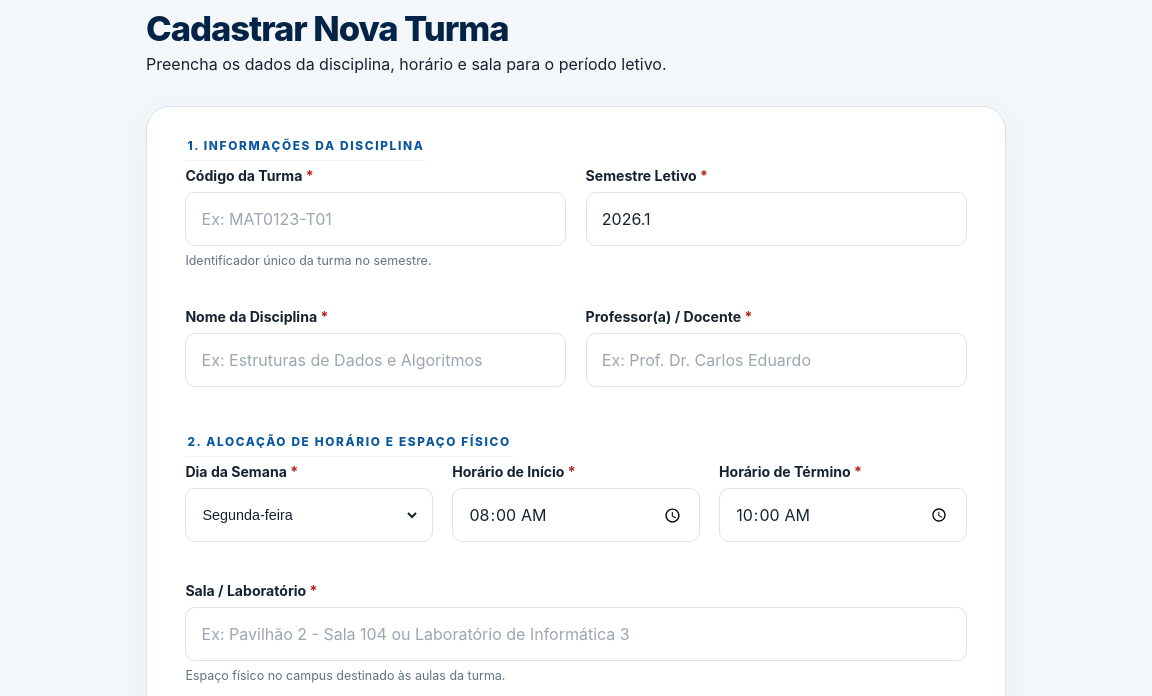
Test: Módulo de Turmas (CRUD) › Regra de Negócio: Tratamento de Conflito de Horário › exibe alerta visual claro de conflito de horário quando a API retorna erro de validação
Preenche os campos do formulário
Type "MAT0123-T02" into the field labelled "Código da Turma *" at (376,219), box [202,194,550,244]
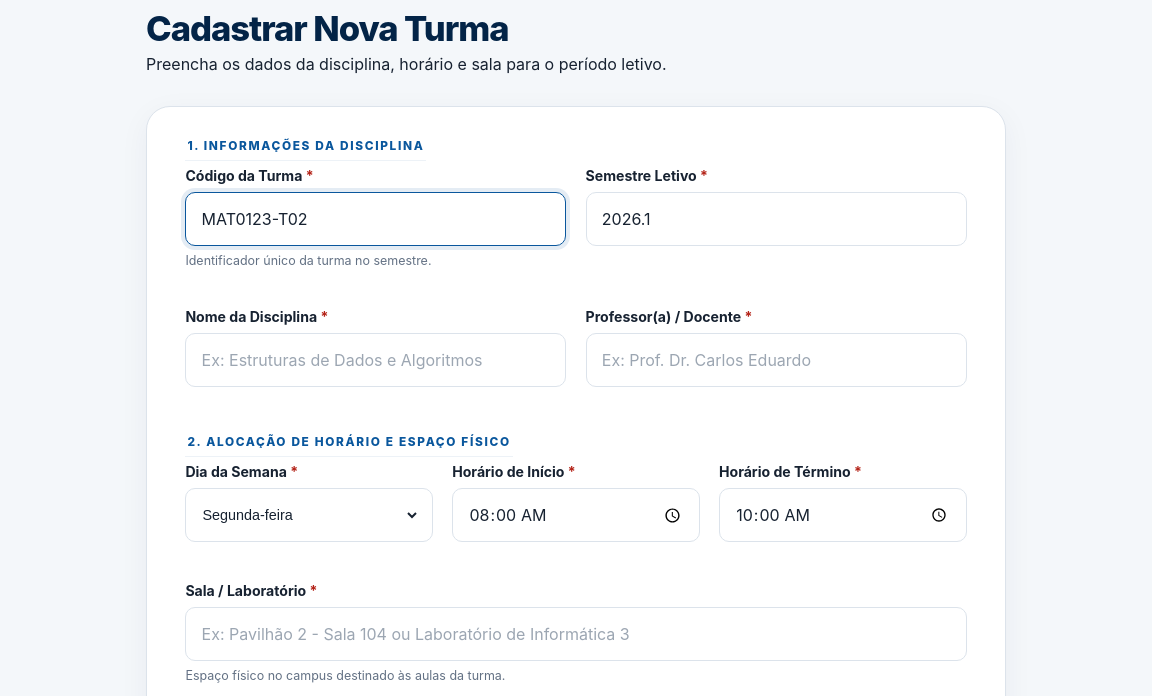
Type "Cálculo Diferencial" into the field labelled "Nome da Disciplina *" at (376,360), box [202,335,550,385]
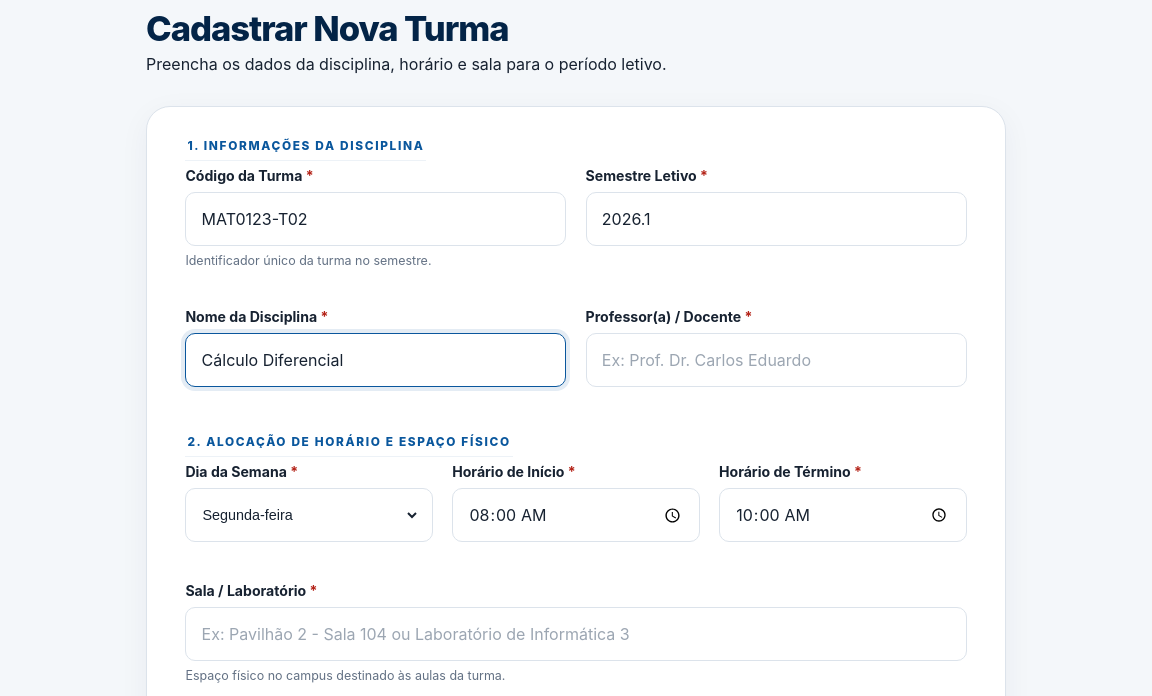
Type "Prof. Dr. Roberto" into the field labelled "Professor(a) / Docente *" at (776,360), box [602,335,950,385]
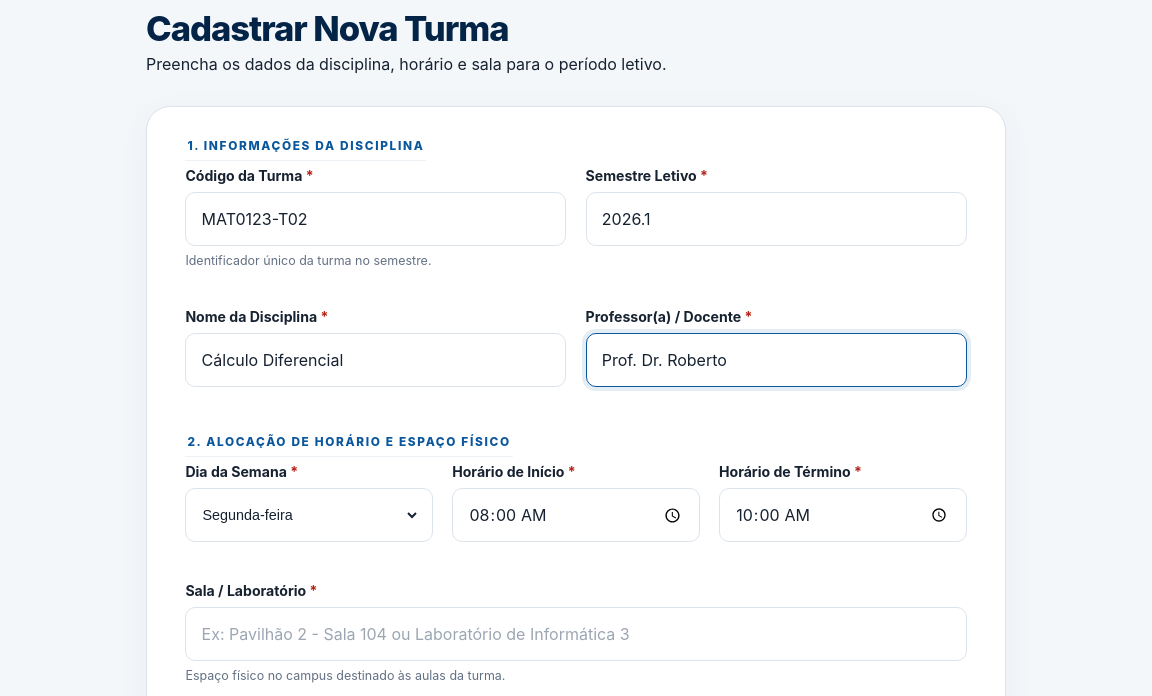
Type "Pavilhão 2 - Sala 104" into the field labelled "Sala / Laboratório *" at (576,634), box [202,609,950,659]
(page scrolled)
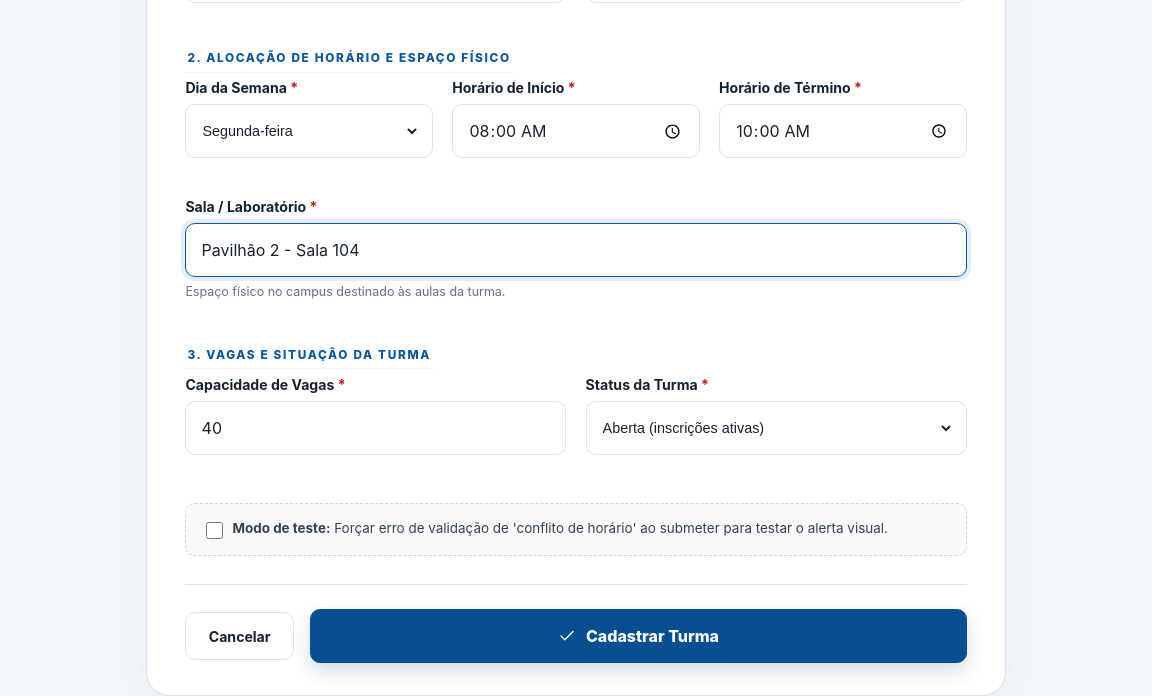
Submete o formulário
Click the button "Cadastrar Turma" at (638,636), box [310,609,967,663]
(page scrolled)
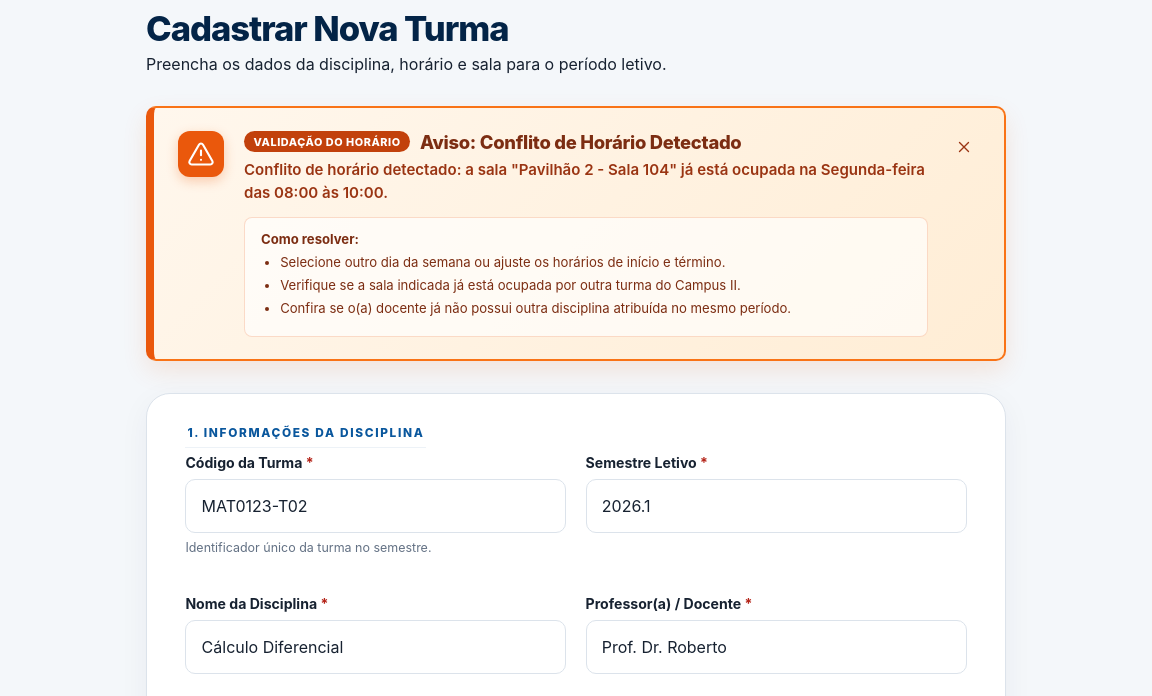
Result: the message with test id "conflict-schedule-alert" is shown at [146,106,1006,361]
Result: the heading "Aviso: Conflito de Horário Detectado" is shown at [420,131,742,153]
Result: the text "Conflito de horário detectado: a sala \"Pavilhão 2 - Sala 104\" já está ocupada na Segunda-feira das 08:00 às 10:00." is shown at [244,160,925,202]
